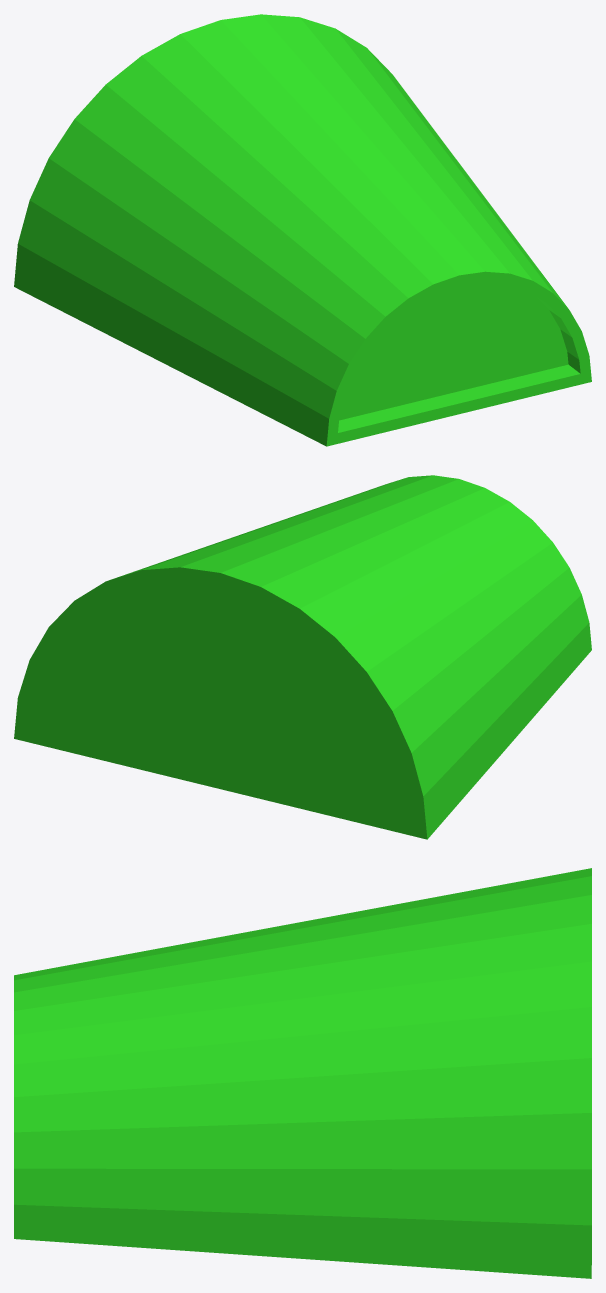
The model's file is Calabolço.fbx.
3 views of the same model, one above another, from view 1: azimuth 30°, elevation 25°; view 2: azimuth 150°, elevation 25°; view 3: azimuth 270°, elevation 25° (orthographic). The views are drawn at different scales.
Visible parts, largest first — view 1: Cilindro.001; view 2: Cilindro.001; view 3: Cilindro.001.
Part boxes in pixels (bbox=[...]): Cilindro.001: bbox=[14, 14, 591, 446]; Cilindro.001: bbox=[14, 475, 591, 839]; Cilindro.001: bbox=[14, 868, 591, 1278].
Size of the model in its own units: 1761 by 893 by 1761.
